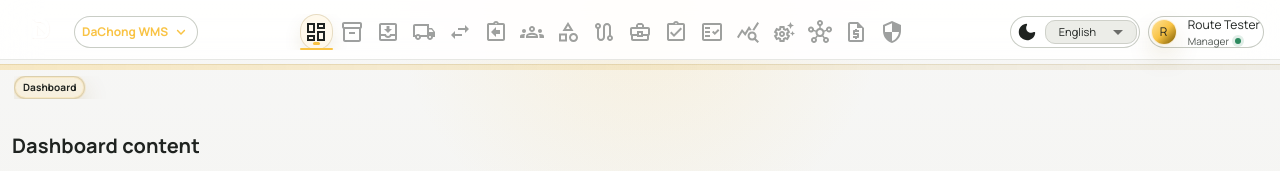
Scenario: opens workspace options from the navbar context block
Click the button with aria-label "Workspace: DaChong WMS" at (136, 32), box left=79, top=22, right=193, bottom=42
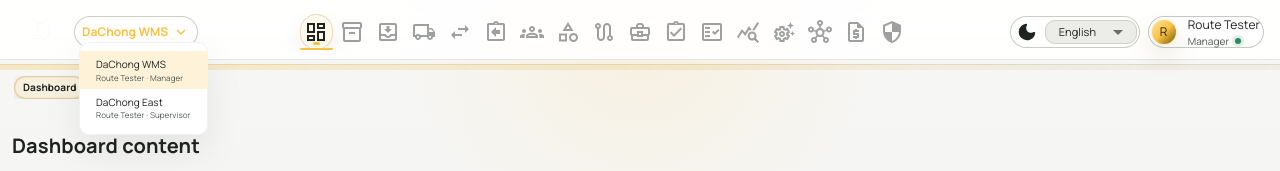
Expected: the text "DaChong East" is shown, left=96, top=95, right=163, bottom=109
